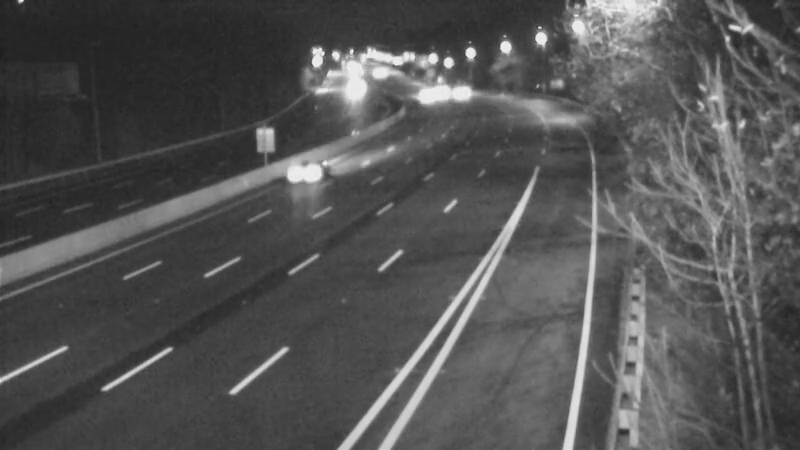vehicle: (264, 133, 344, 213), (418, 66, 468, 116), (395, 69, 445, 119), (441, 66, 491, 116), (330, 63, 380, 113)
